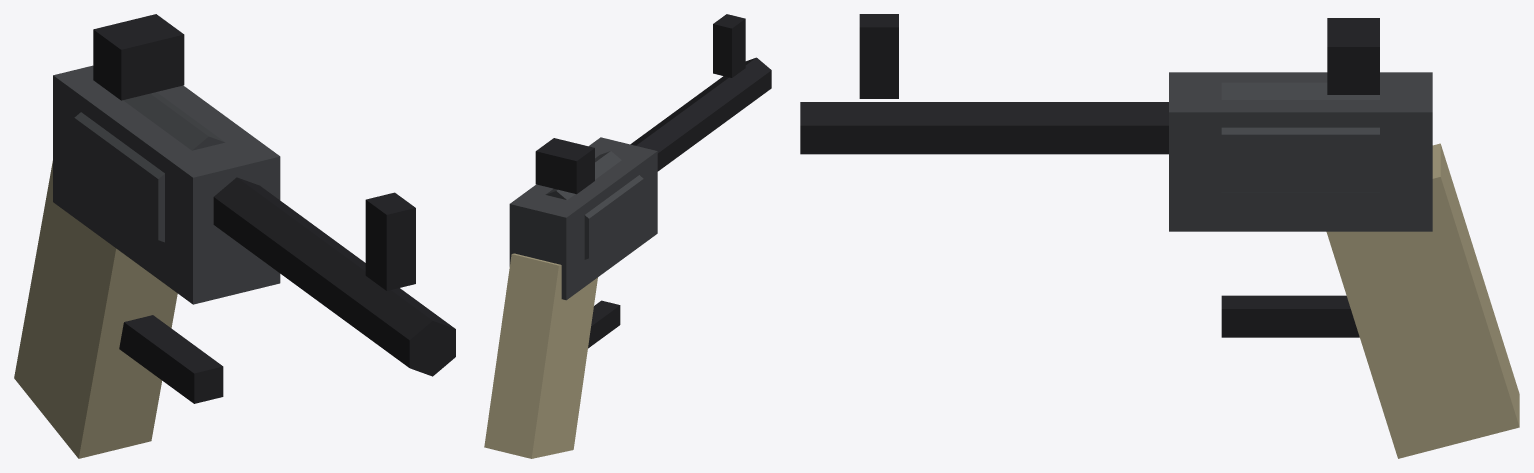
Rendered from wtype_pistol.glb.
3 views of the same model, side by side, from view 1: azimuth 30°, elevation 25°; view 2: azimuth 150°, elevation 25°; view 3: azimuth 270°, elevation 25° (orthographic). The views are drawn at different scales.
Visible parts, largest first — view 1: wtype_pistol; view 2: wtype_pistol; view 3: wtype_pistol.
Boxes of the visible parts, box(x1,y1,x2,y2) form: wtype_pistol: box(14, 14, 455, 458); wtype_pistol: box(484, 14, 771, 458); wtype_pistol: box(800, 14, 1519, 458).
Bounding box in the file's own units: 0.0416 × 0.1766 × 0.2731.
